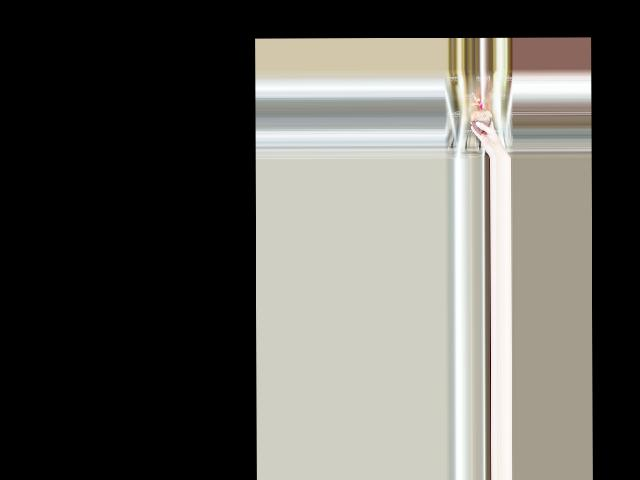beet: (469, 93, 491, 133)
